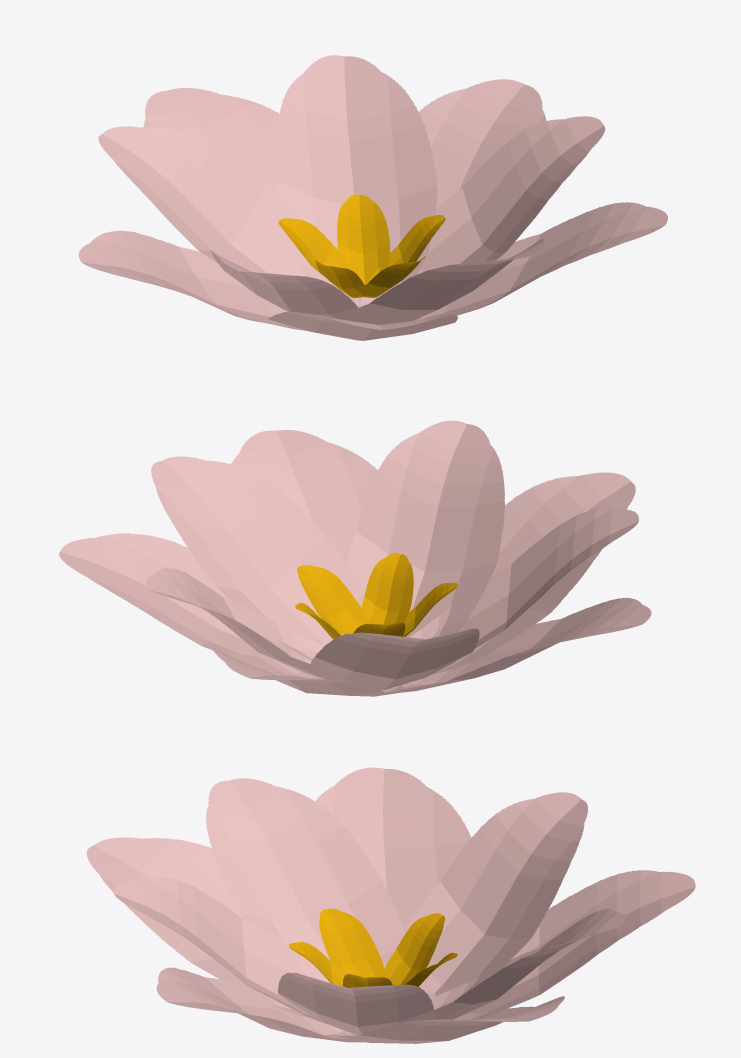
The model's file is Lotus.fbx.
3 views of the same model, one above another, from view 1: azimuth 30°, elevation 25°; view 2: azimuth 150°, elevation 25°; view 3: azimuth 270°, elevation 25° (orthographic).
Parts seen in each view (by area): view 1: Plane.053, Plane.052, Plane.054, Plane.048, Plane.051, Plane.049, Plane.047, Plane.055, Plane.056, Plane.058, Plane.050, Plane.057 (+3 smaller); view 2: Plane.055, Plane.054, Plane.048, Plane.049, Plane.050, Plane.056, Plane.052, Plane.051, Plane.053, Plane.047, Plane.060, Plane.059 (+1 smaller); view 3: Plane.056, Plane.052, Plane.051, Plane.055, Plane.047, Plane.050, Plane.054, Plane.049, Plane.053, Plane.048, Plane.061, Plane.057 (+1 smaller).
Part boxes in pixels (x1=…): Plane.053: x1=276, y1=55, x2=437, y2=293; Plane.052: x1=98, y1=126, x2=361, y2=307; Plane.054: x1=354, y1=116, x2=605, y2=306; Plane.048: x1=418, y1=79, x2=546, y2=208; Plane.051: x1=78, y1=230, x2=306, y2=330; Plane.049: x1=369, y1=202, x2=667, y2=320; Plane.047: x1=144, y1=88, x2=382, y2=297; Plane.055: x1=359, y1=239, x2=544, y2=324; Plane.056: x1=211, y1=250, x2=376, y2=323; Plane.058: x1=337, y1=194, x2=390, y2=284; Plane.050: x1=267, y1=311, x2=457, y2=340; Plane.057: x1=278, y1=218, x2=364, y2=284; Plane.055: x1=347, y1=420, x2=504, y2=637; Plane.054: x1=151, y1=456, x2=365, y2=660; Plane.048: x1=59, y1=533, x2=324, y2=679; Plane.049: x1=231, y1=430, x2=377, y2=561; Plane.050: x1=432, y1=472, x2=635, y2=674; Plane.056: x1=410, y1=509, x2=638, y2=648; Plane.052: x1=310, y1=628, x2=479, y2=690; Plane.051: x1=382, y1=597, x2=651, y2=692; Plane.053: x1=146, y1=568, x2=338, y2=679; Plane.047: x1=211, y1=646, x2=403, y2=696; Plane.060: x1=360, y1=553, x2=413, y2=625; Plane.059: x1=297, y1=565, x2=369, y2=634; Plane.056: x1=206, y1=778, x2=404, y2=973; Plane.052: x1=390, y1=792, x2=587, y2=1009; Plane.051: x1=314, y1=767, x2=471, y2=998; Plane.055: x1=114, y1=876, x2=330, y2=1021; Plane.047: x1=464, y1=870, x2=695, y2=1019; Plane.050: x1=86, y1=837, x2=310, y2=1018; Plane.054: x1=277, y1=972, x2=436, y2=1035; Plane.049: x1=156, y1=967, x2=366, y2=1042; Plane.053: x1=430, y1=909, x2=626, y2=1019; Plane.048: x1=335, y1=996, x2=564, y2=1043; Plane.061: x1=319, y1=908, x2=385, y2=977; Plane.057: x1=384, y1=913, x2=444, y2=985.
Bounding box in the file's own units: 294 × 79.82 × 296.
